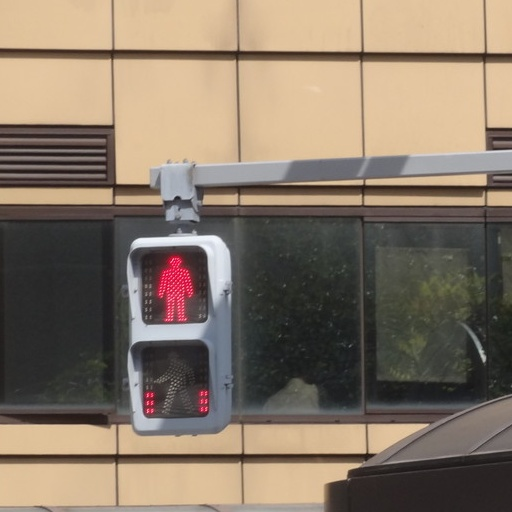Pedestrian_Signal_Red: (126, 232, 223, 427)
